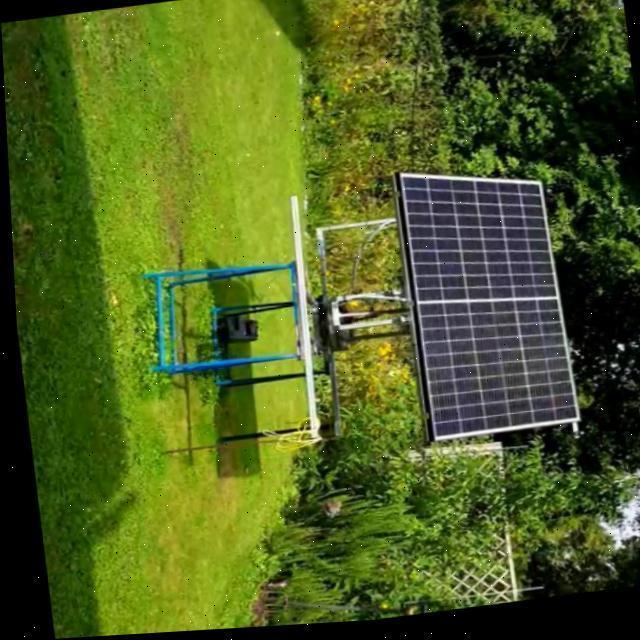Normal Solar Panel: (390, 158, 575, 447)
